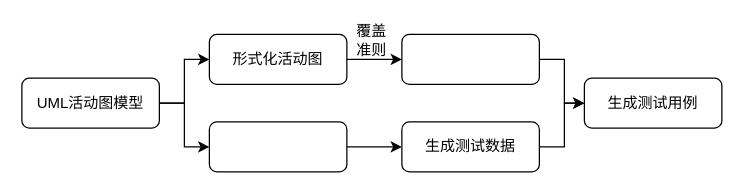
Some shapes in this 744 by 194 pixel diagram are drawn without their labels. Here are the shapes that lost their labels. From the top down, the box of each, then its label:
(401, 33, 539, 84): 生成测试场景
(208, 121, 347, 172): 定义测试剖面
